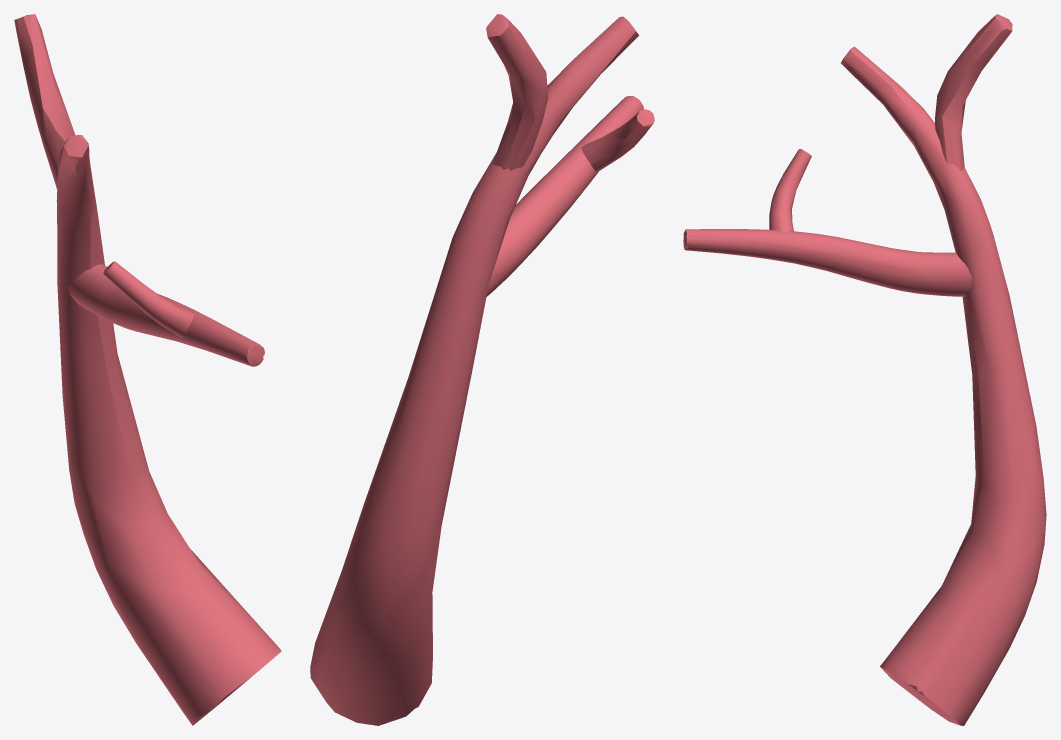
File: fma68662_cx174.glb
3 views of the same model, side by side, from view 1: azimuth 30°, elevation 25°; view 2: azimuth 150°, elevation 25°; view 3: azimuth 270°, elevation 25° (orthographic). The views are drawn at different scales.
Parts seen in each view (by area): view 1: FMA68662_CX174; view 2: FMA68662_CX174; view 3: FMA68662_CX174.
Part boxes in pixels (<box>): FMA68662_CX174: <box>14,14,281,725</box>; FMA68662_CX174: <box>310,14,654,725</box>; FMA68662_CX174: <box>683,14,1046,725</box>.
Bounding box in the file's own units: 0.0226 × 0.0609 × 0.0311.
